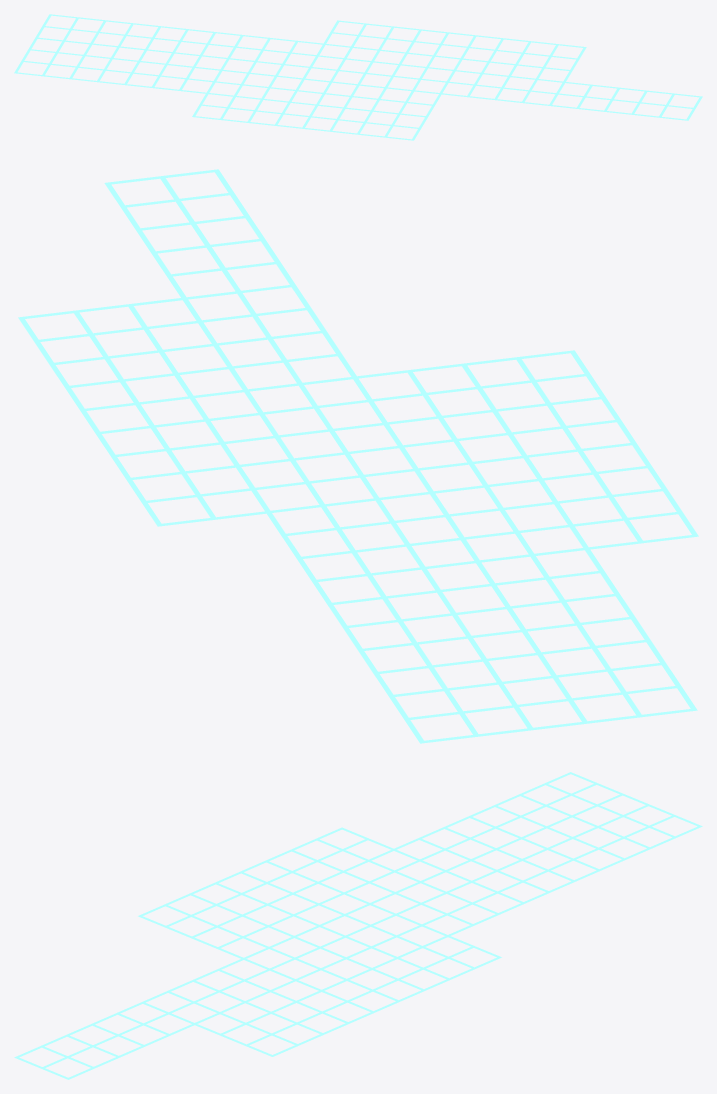
File: cloud.glb
3 views of the same model, one above another, from view 1: azimuth 30°, elevation 25°; view 2: azimuth 150°, elevation 25°; view 3: azimuth 270°, elevation 25° (orthographic). The views are drawn at different scales.
Visible parts, largest first — view 1: Grid Cloud; view 2: Grid Cloud; view 3: Grid Cloud.
Boxes of the visible parts, left/top/right/bottom form: Grid Cloud: left=14, top=14, right=702, bottom=140; Grid Cloud: left=18, top=169, right=698, bottom=743; Grid Cloud: left=14, top=772, right=702, bottom=1079.
Bounding box in the file's own units: 735 × 1.71e-13 × 695.
